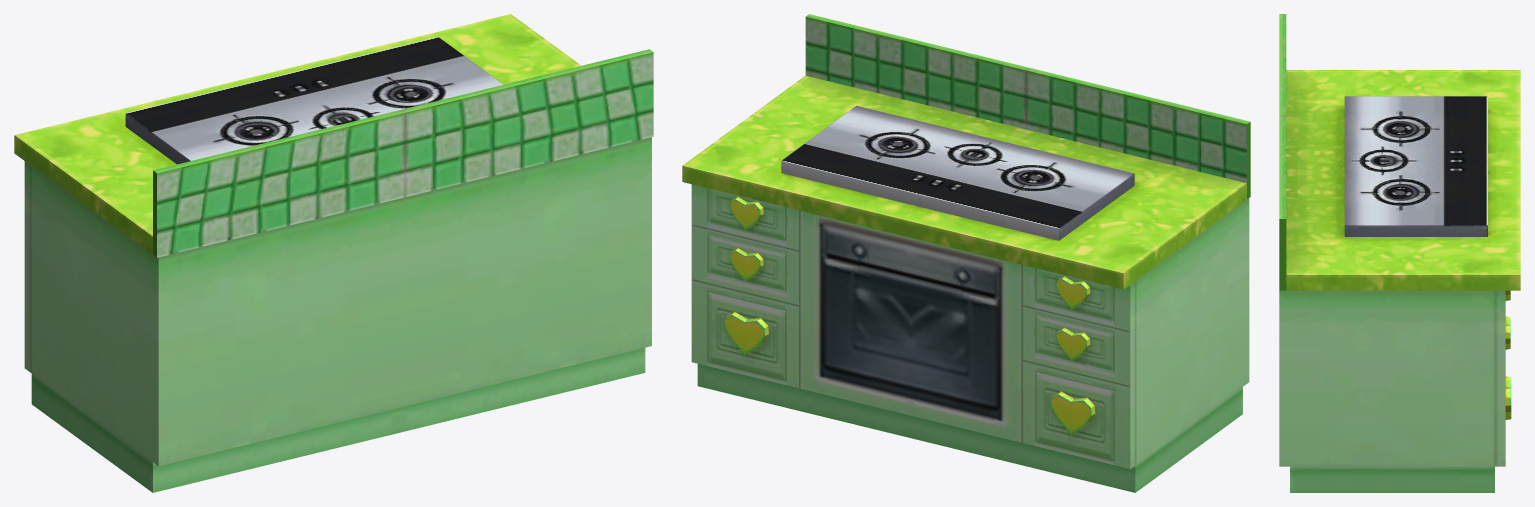
File: furni_0200018-1.FBX
The picture shows the model from 3 angles, left to right: view 1: azimuth 30°, elevation 25°; view 2: azimuth 150°, elevation 25°; view 3: azimuth 270°, elevation 25°; orthographic projection. The views are drawn at different scales.
Parts seen in each view (by area): view 1: furni_0200018; view 2: furni_0200018; view 3: furni_0200018.
Boxes of the visible parts, x1=… form: furni_0200018: x1=14, y1=14, x2=653, y2=492; furni_0200018: x1=682, y1=14, x2=1250, y2=492; furni_0200018: x1=1279, y1=14, x2=1520, y2=492.
Size of the model in its own units: 161 by 100 by 80.
1 material, 1 textured.
